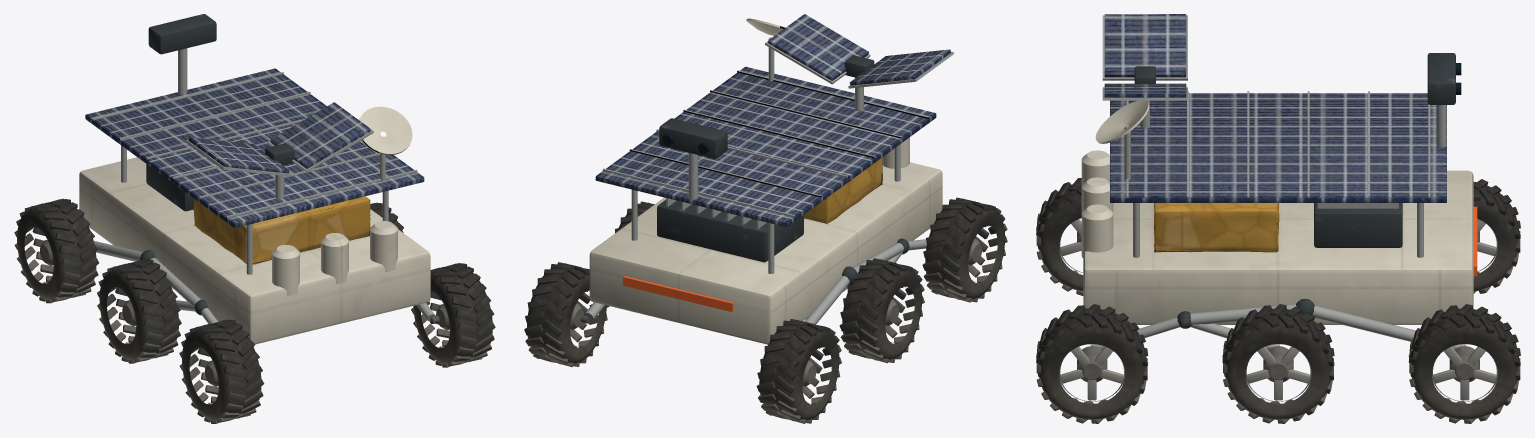
Rendered from survey-rover.glb.
The picture shows the model from 3 angles, left to right: view 1: azimuth 30°, elevation 25°; view 2: azimuth 150°, elevation 25°; view 3: azimuth 270°, elevation 25°; orthographic projection. The views are drawn at different scales.
Parts seen in each view (by area): view 1: rover_body, wheel_0, wheel_2, wheel_1, wheel_5; view 2: rover_body, wheel_2, wheel_0, wheel_1, wheel_3; view 3: rover_body, wheel_3, wheel_5, wheel_4, wheel_2, wheel_0.
Boxes of the visible parts, x1,y1,x2,y2 form: rover_body: (79, 14, 439, 344); wheel_0: (14, 198, 98, 303); wheel_2: (179, 319, 264, 423); wheel_1: (97, 259, 181, 363); wheel_5: (411, 263, 495, 367); rover_body: (580, 14, 953, 344); wheel_2: (922, 197, 1007, 302); wheel_0: (756, 319, 841, 423); wheel_1: (839, 258, 924, 363); wheel_3: (524, 262, 609, 367); rover_body: (1081, 14, 1477, 349); wheel_3: (1408, 304, 1520, 423); wheel_5: (1036, 304, 1148, 423); wheel_4: (1222, 304, 1334, 423); wheel_2: (1036, 178, 1083, 295); wheel_0: (1473, 179, 1520, 293).
Size of the model in its own units: 1.98 by 1.76 by 2.73.
1 material, 1 textured.
